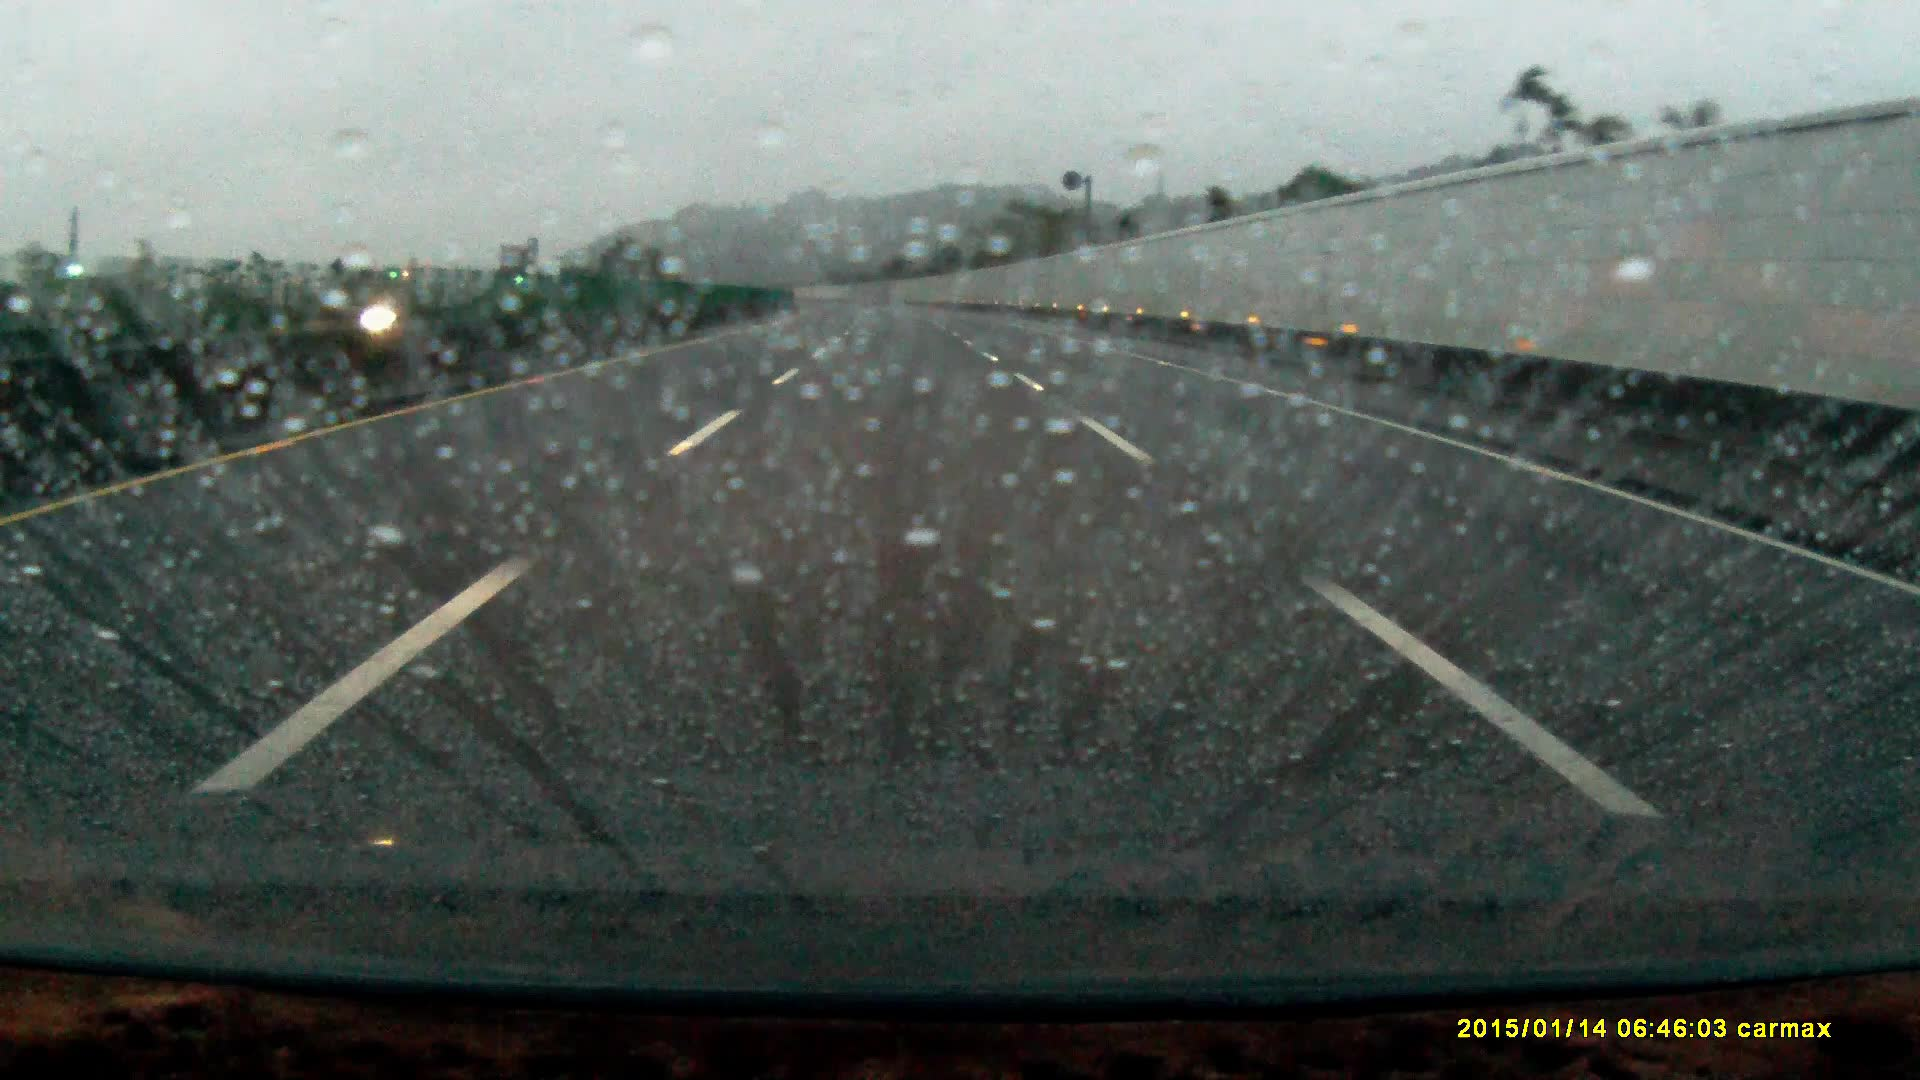vehicle: (305, 290, 407, 336)
